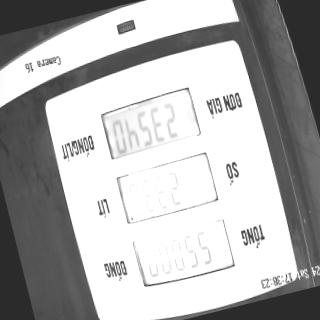screen: (95, 82, 238, 292)
